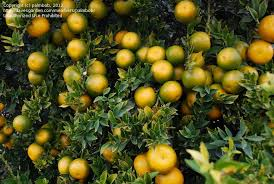orange: (143, 141, 180, 173), (157, 80, 184, 105), (215, 45, 243, 69), (149, 59, 174, 84), (131, 86, 157, 108), (182, 67, 208, 88), (188, 31, 212, 53), (83, 75, 108, 96), (114, 49, 136, 70)
